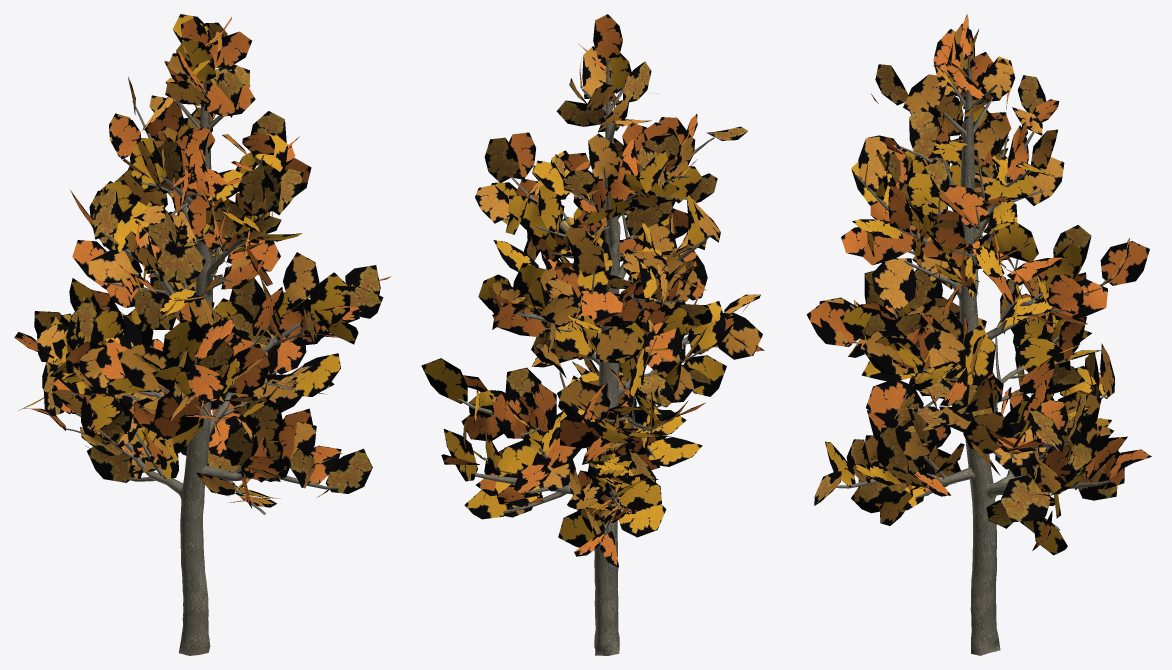
Rendered from Oak_White_Desktop_Field_3_002_Yellow_f42d6f.glb.
3 views of the same model, side by side, from view 1: azimuth 30°, elevation 25°; view 2: azimuth 150°, elevation 25°; view 3: azimuth 270°, elevation 25° (orthographic). The views are drawn at different scales.
Bounding box in the file's own units: 5.78 × 11.8 × 6.18.
Materials: 2 (2 with a texture image).
